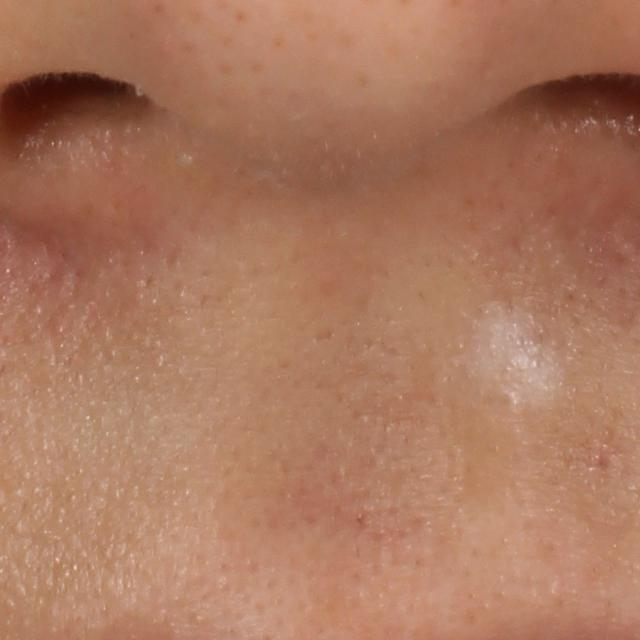other: (466, 285, 577, 413)
